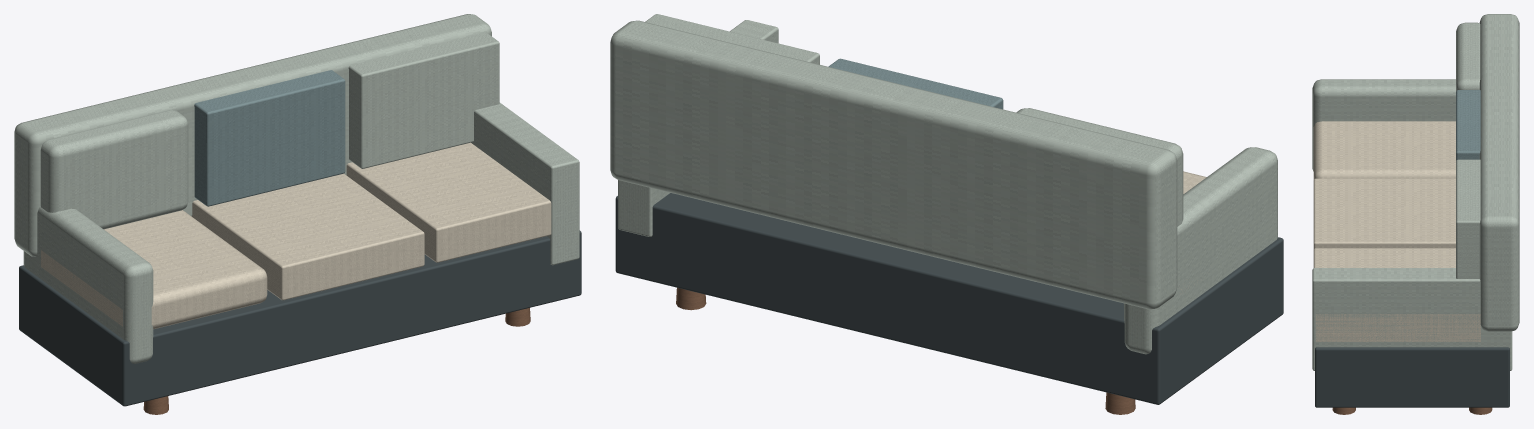
File: sofa_modular.glb
The picture shows the model from 3 angles, left to right: view 1: azimuth 30°, elevation 25°; view 2: azimuth 150°, elevation 25°; view 3: azimuth 270°, elevation 25°; orthographic projection. The views are drawn at different scales.
Visible parts, largest first — view 1: ModularBase, _MeshInstance3D_25, _MeshInstance3D_26, ModularBack, _MeshInstance3D_28, _MeshInstance3D_27, SofaPillow, SofaCushion, SofaArm, _MeshInstance3D_29; view 2: ModularBack, ModularBase, SofaArm, _MeshInstance3D_29, _MeshInstance3D_26, _MeshInstance3D_28, SofaPillow; view 3: _MeshInstance3D_29, ModularBack, ModularBase, _MeshInstance3D_25, SofaCushion, _MeshInstance3D_27, SofaArm, _MeshInstance3D_28, _MeshInstance3D_26, SofaPillow.
Boxes of the visible parts, <box> form: ModularBase: <box>19,230,581,406</box>; _MeshInstance3D_25: <box>192,173,424,300</box>; _MeshInstance3D_26: <box>194,70,345,206</box>; ModularBack: <box>14,14,491,256</box>; _MeshInstance3D_28: <box>348,32,499,168</box>; _MeshInstance3D_27: <box>346,142,551,262</box>; SofaPillow: <box>40,110,188,229</box>; SofaCushion: <box>41,210,267,329</box>; SofaArm: <box>23,206,153,363</box>; _MeshInstance3D_29: <box>471,102,579,265</box>; ModularBack: <box>610,20,1177,309</box>; ModularBase: <box>615,193,1283,404</box>; SofaArm: <box>1124,147,1277,354</box>; _MeshInstance3D_29: <box>618,20,778,236</box>; _MeshInstance3D_26: <box>828,58,1003,109</box>; _MeshInstance3D_28: <box>645,14,819,64</box>; SofaPillow: <box>1016,108,1183,226</box>; _MeshInstance3D_29: <box>1312,268,1512,370</box>; ModularBack: <box>1479,14,1519,331</box>; ModularBase: <box>1315,347,1509,407</box>; _MeshInstance3D_25: <box>1313,178,1455,249</box>; SofaCushion: <box>1313,121,1455,179</box>; _MeshInstance3D_27: <box>1313,248,1480,341</box>; SofaArm: <box>1312,79,1455,171</box>; _MeshInstance3D_28: <box>1456,159,1480,278</box>; _MeshInstance3D_26: <box>1456,90,1480,160</box>; SofaPillow: <box>1456,22,1480,91</box>.
Bounding box in the file's own units: 2.1 × 1 × 0.88.
5 materials, 4 textured.
